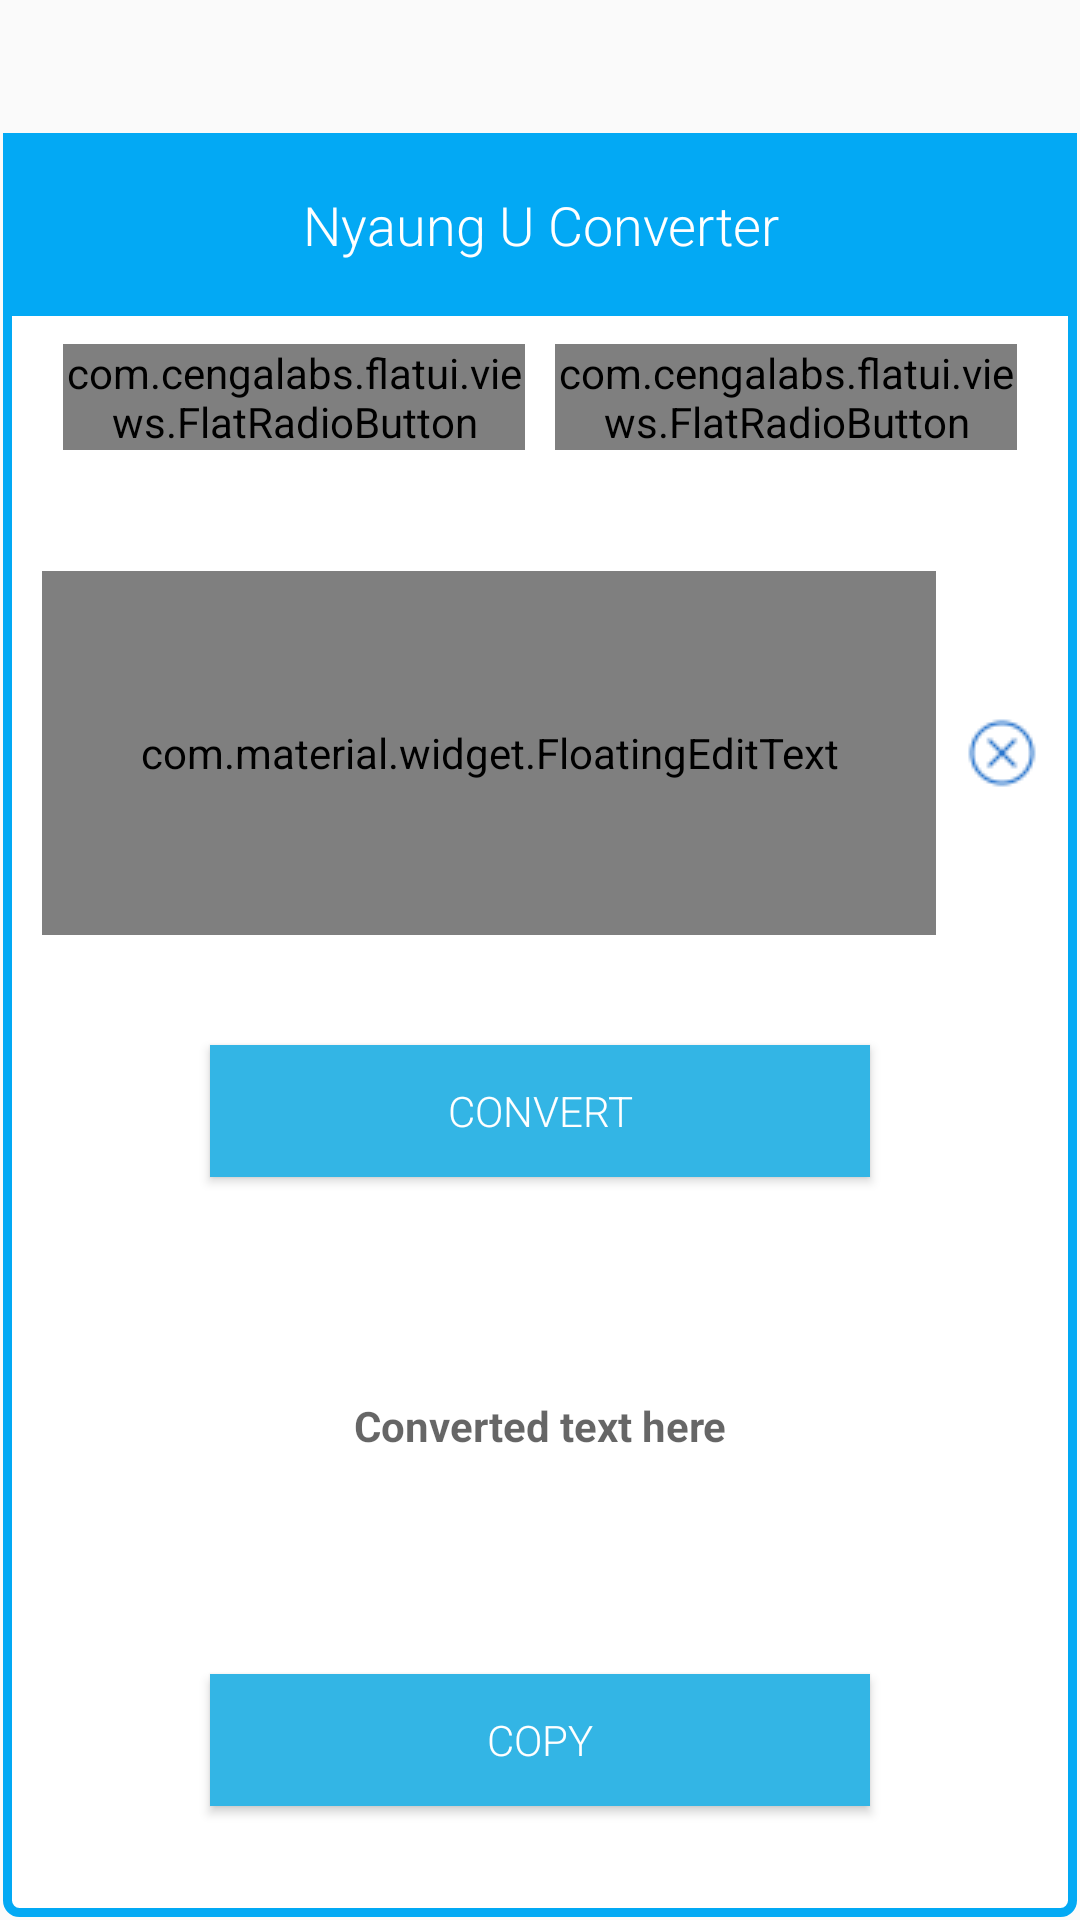

Point at icon controls on the screen. Image size 1080px x 1920px, points as [x,y].
cross: [1002,753]
